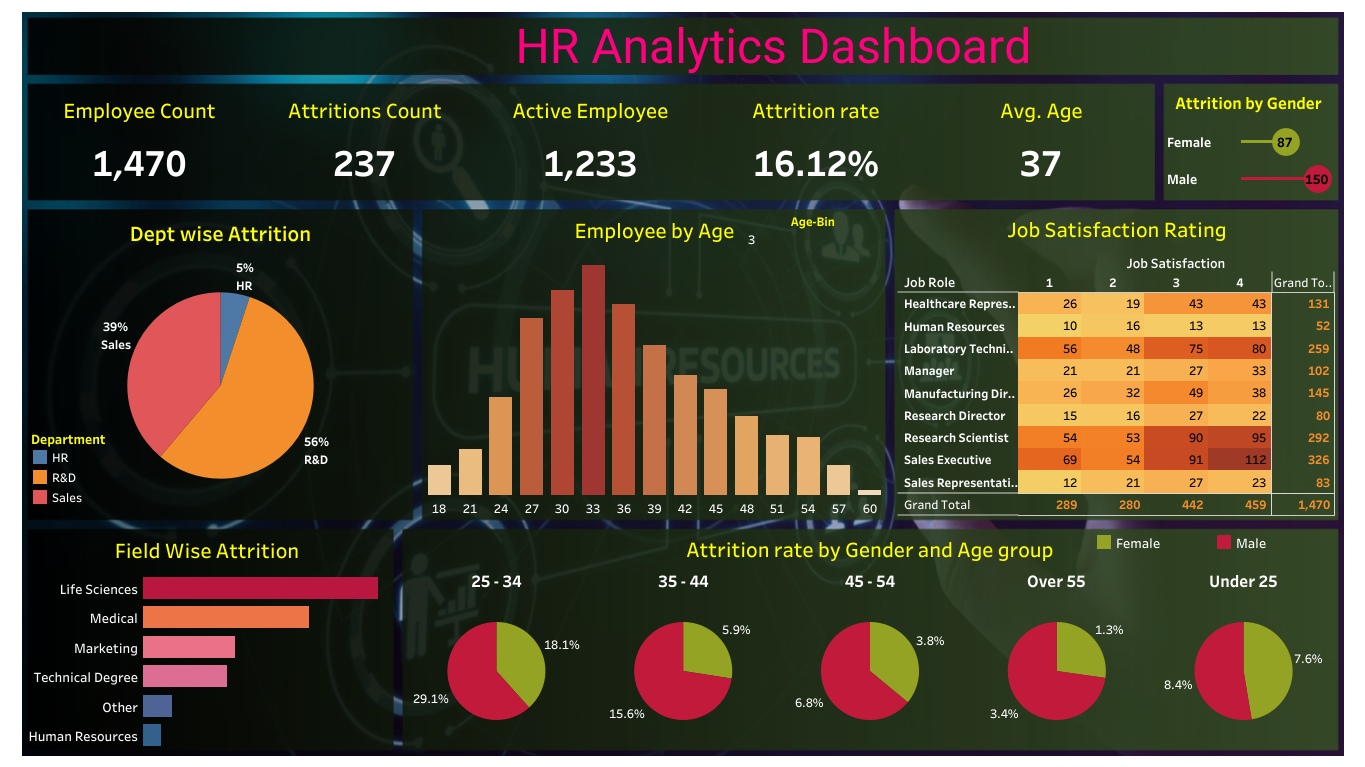

What the dashboard file says about the page in this screenshot:
{"tool":"tableau","page":{"name":"HR Analytics","canvas":[1366,768],"ordinal":0},"visuals":[{"type":"image","param":"Image/HR background.pptx(1).png","box":[8,8,1350,752]},{"type":"text","box":[408,9,573,70]},{"type":"worksheet","title":"KPI","mark":"Automatic","box":[27,84,1127,116]},{"type":"worksheet","title":"Attrition by Gender","mark":"Bar","rows":["Gender"],"cols":["Calculation_849491495757852672","Calculation_849491495757852672"],"box":[1161,85,175,112]},{"type":"worksheet","title":"Job Satisfaction Rating","mark":"Square","rows":["Job Role"],"cols":["Job Satisfaction"],"box":[898,209,438,307]},{"type":"worksheet","title":"Employee by Age","mark":"Automatic","rows":["Employee Count"],"cols":["Age (bin)"],"box":[424,210,461,307]},{"type":"parameter","param":"[Parameters].[Parameter 1]","box":[739,211,133,61]},{"type":"worksheet","title":"Dept wise Attrition","mark":"Pie","box":[29,213,383,302]},{"type":"legend","title":"Dept wise Attrition","param":"[federated.1c691om12wt6y91bjt5701inmun5].[none:Department:nk]","box":[30,427,105,86]},{"type":"worksheet","title":"Attrition rate by Gender and Age group","mark":"Pie","cols":["CF_age band"],"box":[403,529,934,221]},{"type":"worksheet","title":"Field Wise Attrition","mark":"Automatic","rows":["Education Field"],"cols":["Calculation_849491495757852672"],"box":[23,530,368,220]},{"type":"legend","title":"Attrition rate by Gender and Age group","param":"[federated.1c691om12wt6y91bjt5701inmun5].[none:Gender:nk]","box":[1096,539,242,31]}]}

Visuals, with their boxes in screenshot pixels (x1, y1, x2, y2), scaled from the page's 1366x768 canvas onto the 1365x767 screenshot:
image: (x1=8, y1=8, x2=1357, y2=759)
text: (x1=408, y1=9, x2=980, y2=79)
"KPI" worksheet: (x1=27, y1=84, x2=1153, y2=200)
"Attrition by Gender" worksheet (Bar marks): (x1=1160, y1=85, x2=1335, y2=197)
"Job Satisfaction Rating" worksheet (Square marks): (x1=897, y1=209, x2=1335, y2=515)
"Employee by Age" worksheet: (x1=424, y1=210, x2=884, y2=516)
parameter: (x1=738, y1=211, x2=871, y2=272)
"Dept wise Attrition" worksheet (Pie marks): (x1=29, y1=213, x2=412, y2=514)
"Dept wise Attrition" legend: (x1=30, y1=426, x2=135, y2=512)
"Attrition rate by Gender and Age group" worksheet (Pie marks): (x1=403, y1=528, x2=1336, y2=749)
"Field Wise Attrition" worksheet: (x1=23, y1=529, x2=391, y2=749)
"Attrition rate by Gender and Age group" legend: (x1=1095, y1=538, x2=1337, y2=569)
